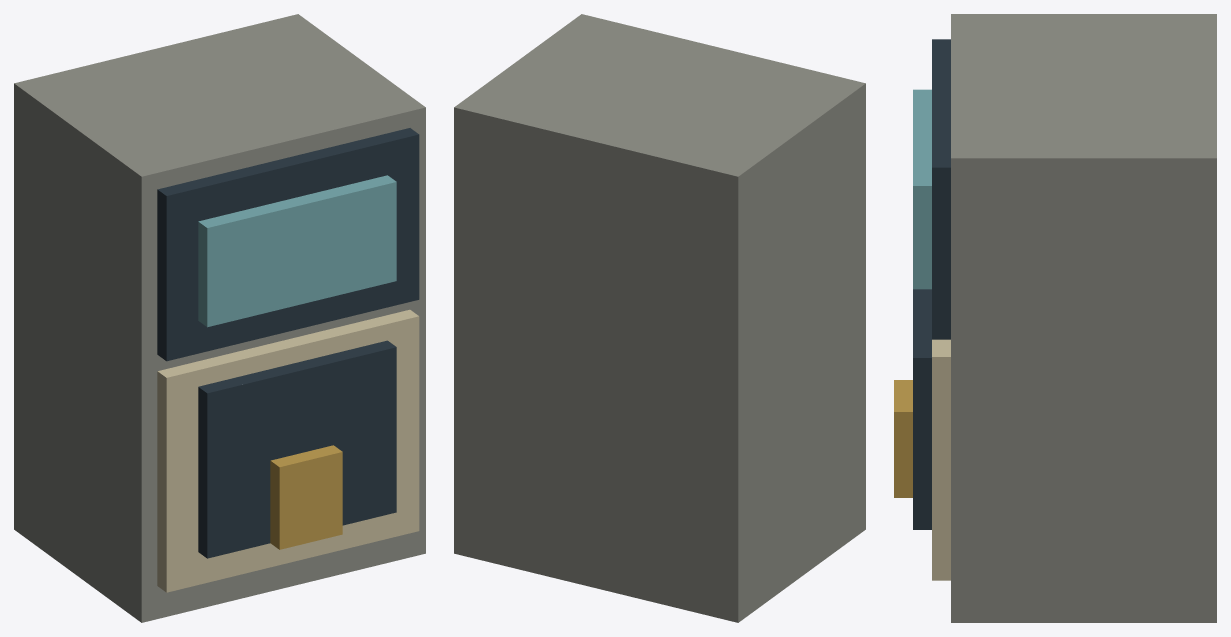
File: manufacturing-16.glb
The picture shows the model from 3 angles, left to right: view 1: azimuth 30°, elevation 25°; view 2: azimuth 150°, elevation 25°; view 3: azimuth 270°, elevation 25°; orthographic projection. The views are drawn at different scales.
Parts seen in each view (by area): view 1: 3D printer; view 2: 3D printer; view 3: 3D printer.
Part boxes in pixels (bbox=[...]): 3D printer: bbox=[14, 14, 425, 622]; 3D printer: bbox=[454, 14, 865, 622]; 3D printer: bbox=[894, 14, 1216, 622].
Bounding box in the file's own units: 1.44 × 2.16 × 1.36.
